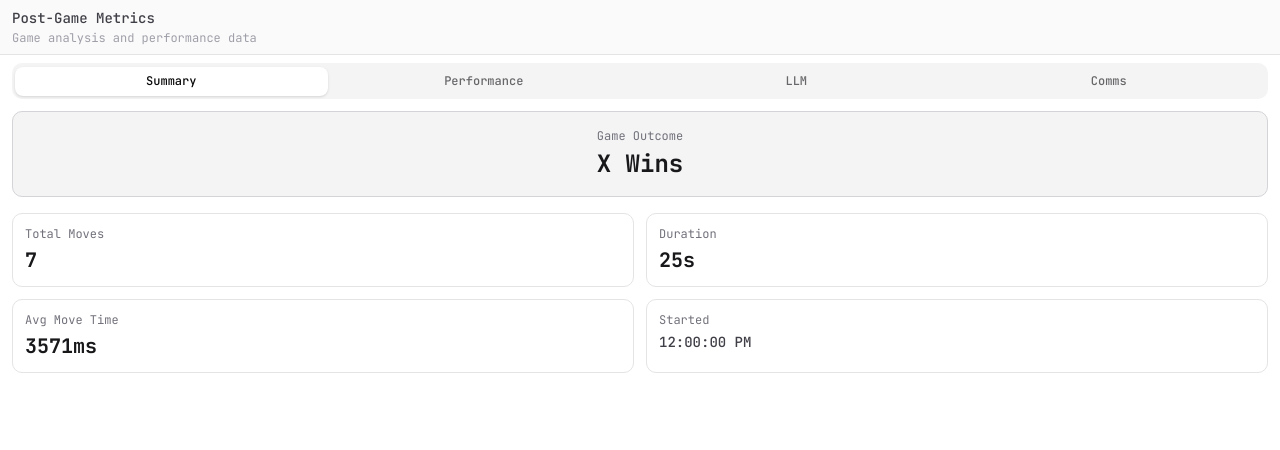
it: PostGameMetrics › tabs › switches to Performance tab when clicked
Click the tab "Performance": (484, 81) [328, 66, 640, 96]
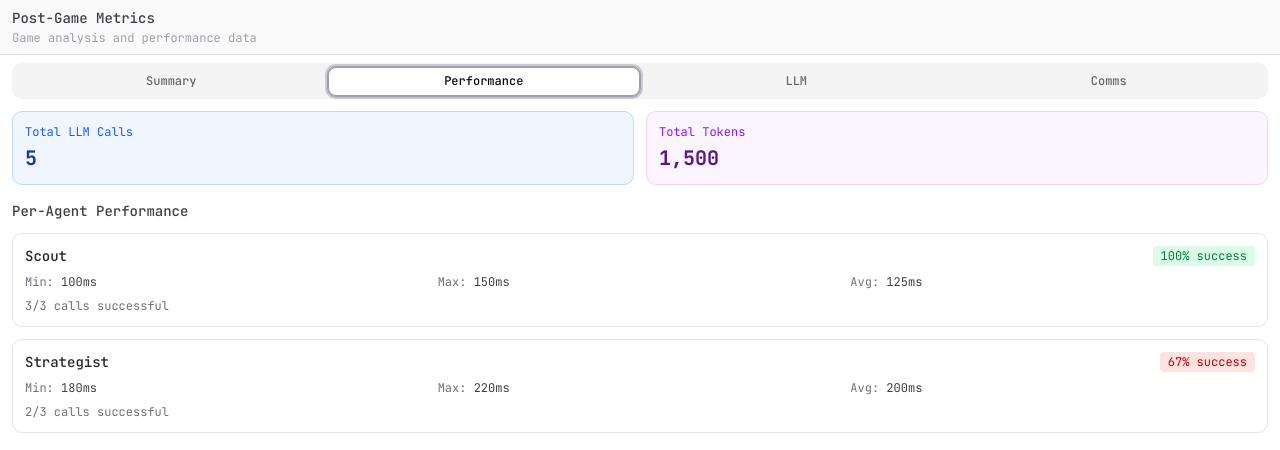
Now the text "Total LLM Calls" is shown, box [25, 124, 133, 140]
Now the heading "Per-Agent Performance" is shown, box [12, 202, 188, 220]
